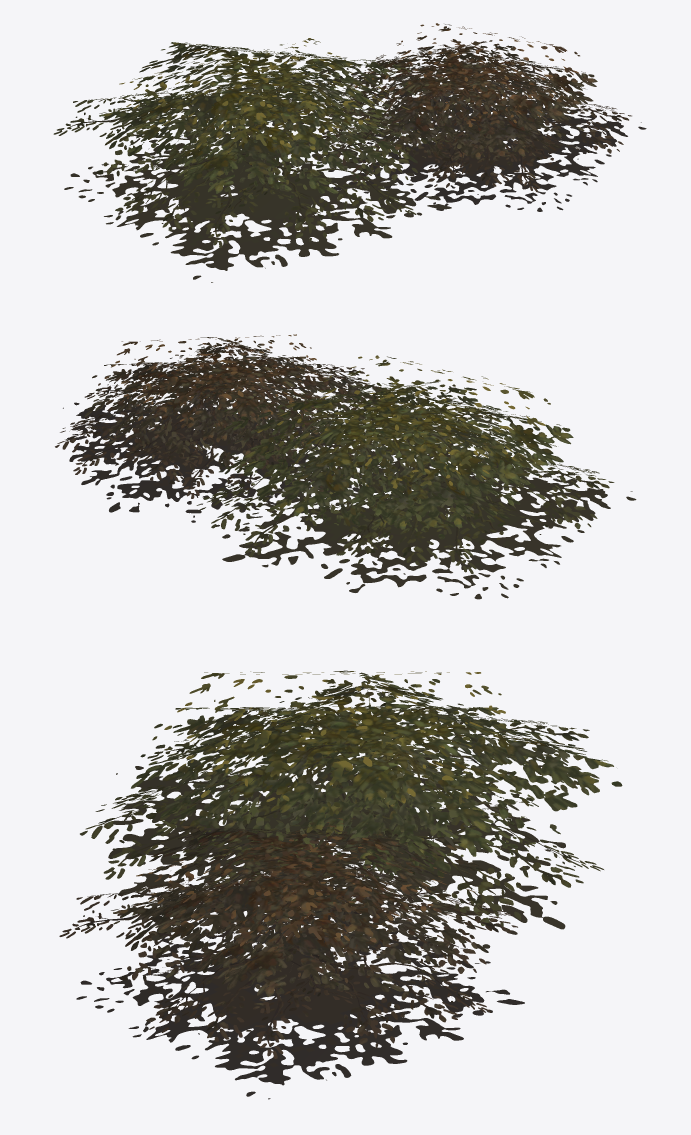
File: plants_bushes08.fbx
3 views of the same model, one above another, from view 1: azimuth 30°, elevation 25°; view 2: azimuth 150°, elevation 25°; view 3: azimuth 270°, elevation 25° (orthographic). The views are drawn at different scales.
Visible parts, largest first — view 1: plants_bushes08-0; view 2: plants_bushes08-0; view 3: plants_bushes08-0.
Part boxes in pixels (x1,y1,x2,y2): plants_bushes08-0: [53, 23, 646, 282]; plants_bushes08-0: [55, 334, 636, 599]; plants_bushes08-0: [59, 670, 622, 1099].
Bounding box in the file's own units: 7.69 × 1.57 × 5.71.
